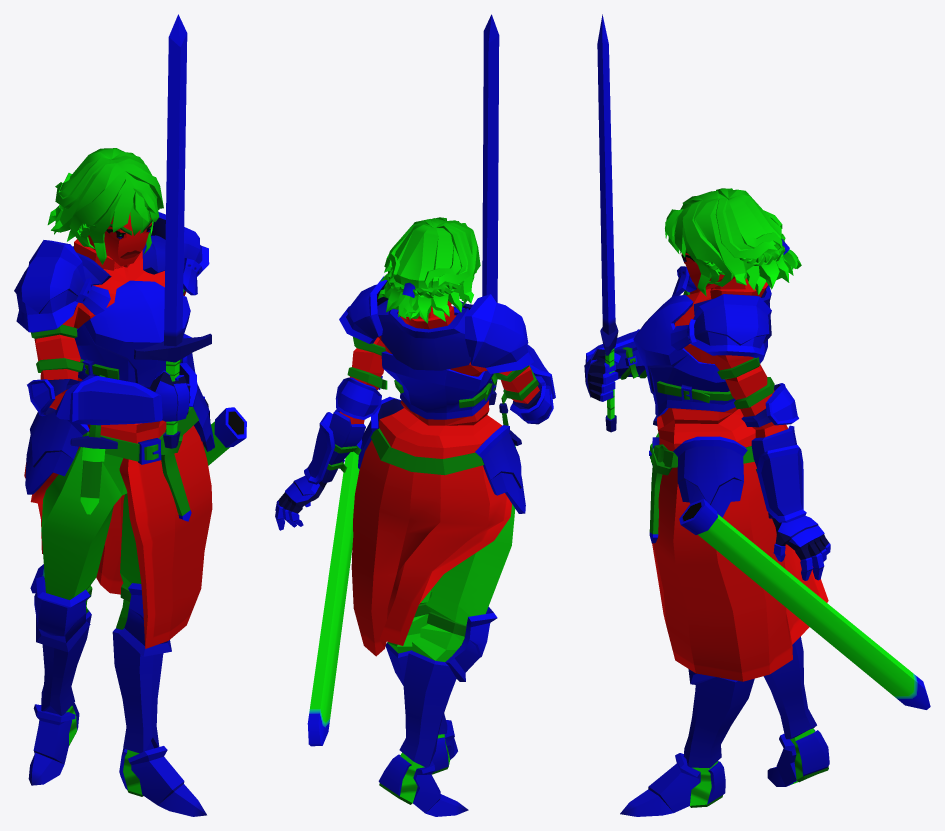
The model's file is F_Knight_prePosed.fbx.
3 views of the same model, side by side, from view 1: azimuth 30°, elevation 25°; view 2: azimuth 150°, elevation 25°; view 3: azimuth 270°, elevation 25° (orthographic). The views are drawn at different scales.
Parts seen in each view (by area): view 1: F_Knight_prePosed; view 2: F_Knight_prePosed; view 3: F_Knight_prePosed.
Boxes of the visible parts, x1,y1,x2,y2 form: F_Knight_prePosed: (14, 14, 246, 816); F_Knight_prePosed: (275, 14, 555, 816); F_Knight_prePosed: (584, 14, 930, 816).
Size of the model in its own units: 81.71 by 264 by 105.
